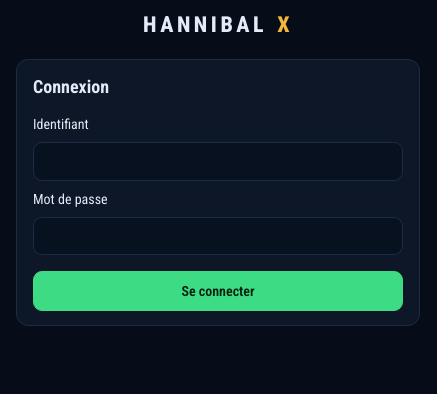
Test: routing and session guards › explains a wrong password without leaving the page
Type "instructeur" into the field labelled "Identifiant" at (218, 161), box [33,142,403,181]
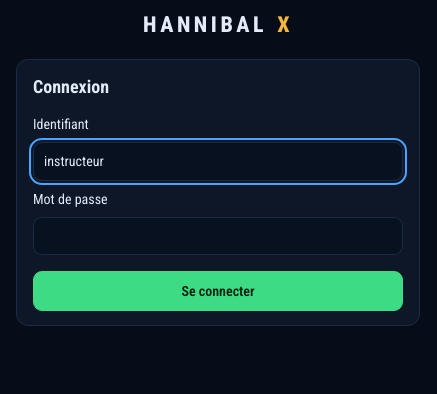
Type "faux" into the password field labelled "Mot de passe" at (218, 236), box [33,217,403,255]
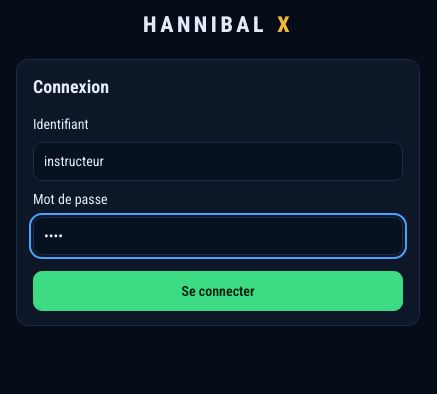
Click the button "Se connecter" at (218, 291), box [33,271,403,312]
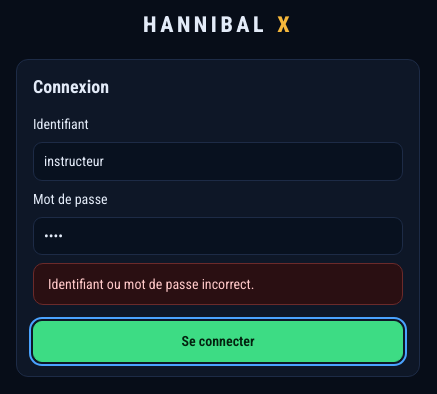
Expected: the message reads "Identifiant ou mot de passe incorrect.", [48,276,254,292]
